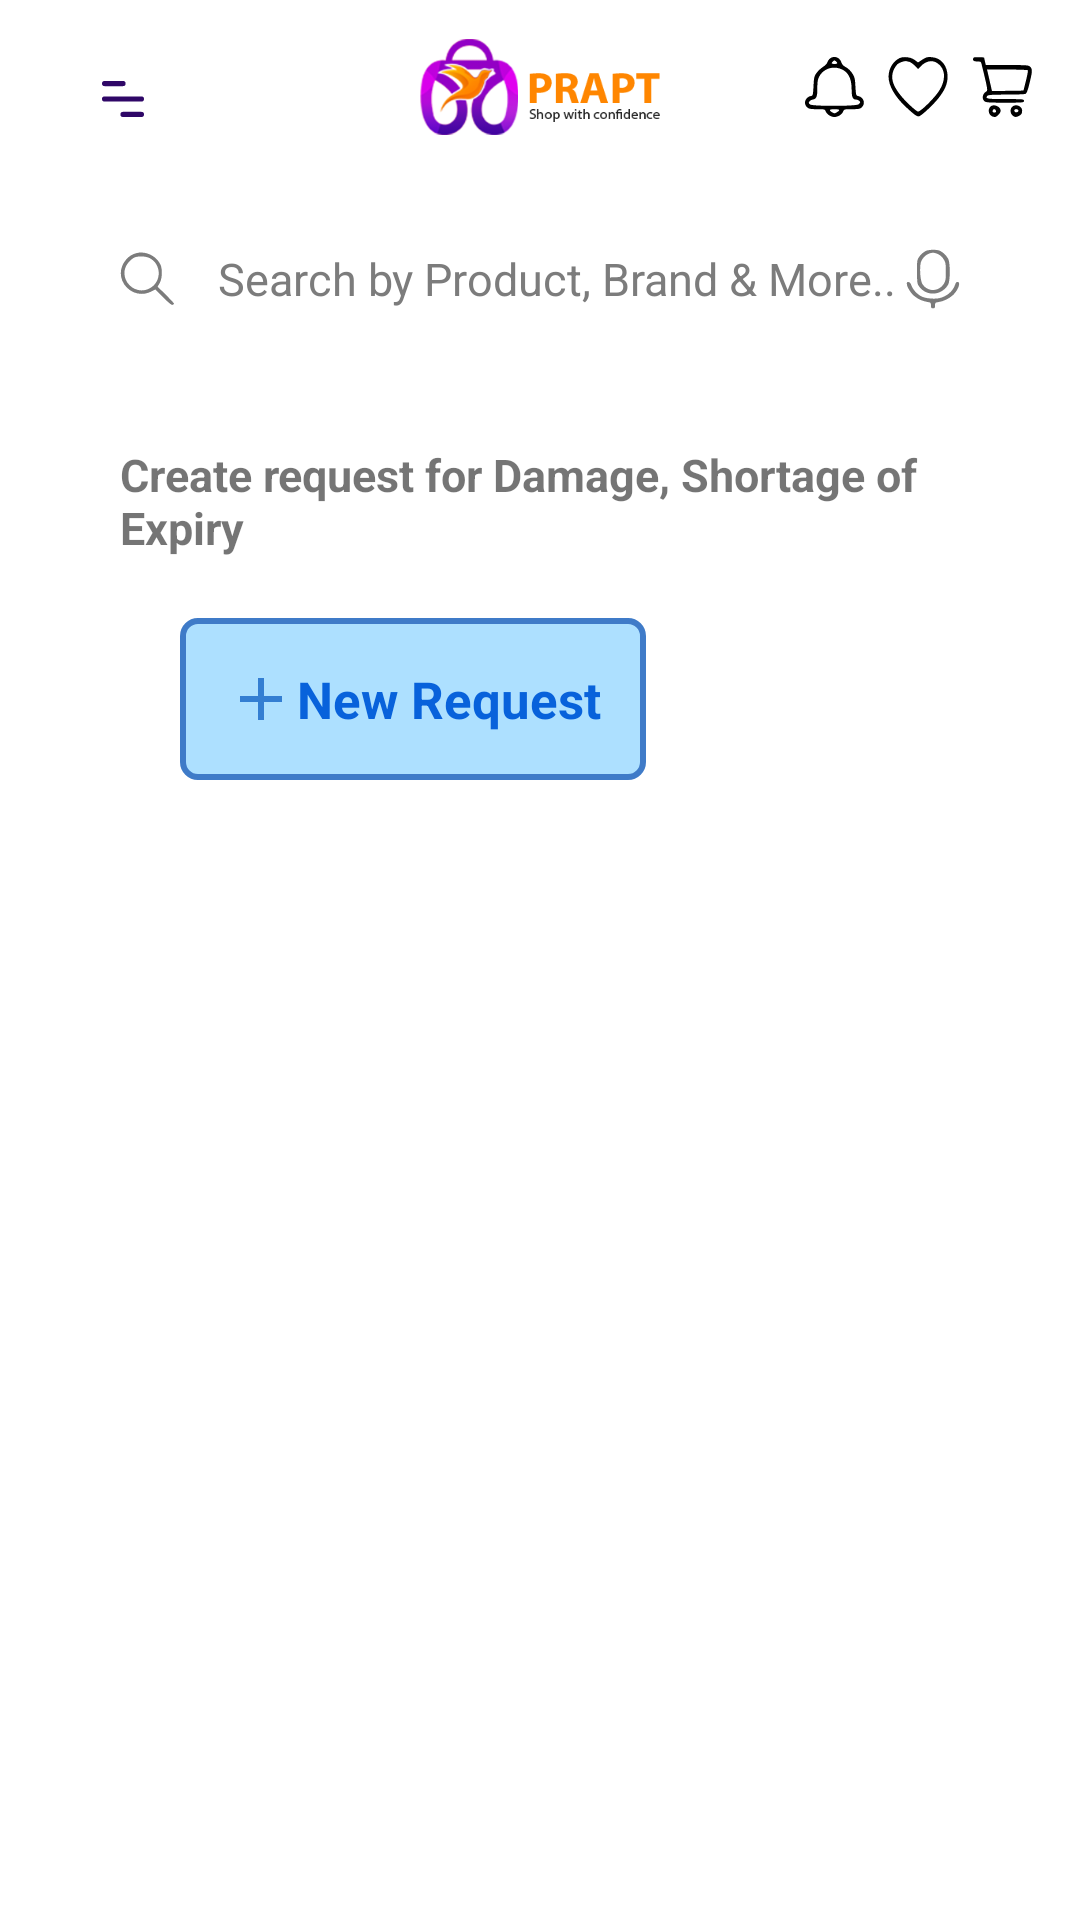

Icon bounding boxes for this 1080x1920 phone screenshot, format bbox=(x1, y1, x2, y2):
home cart: bbox=(973, 57, 1032, 117)
home heart: bbox=(888, 57, 948, 117)
home notification: bbox=(805, 57, 864, 117)
nav: bbox=(102, 81, 144, 117)
